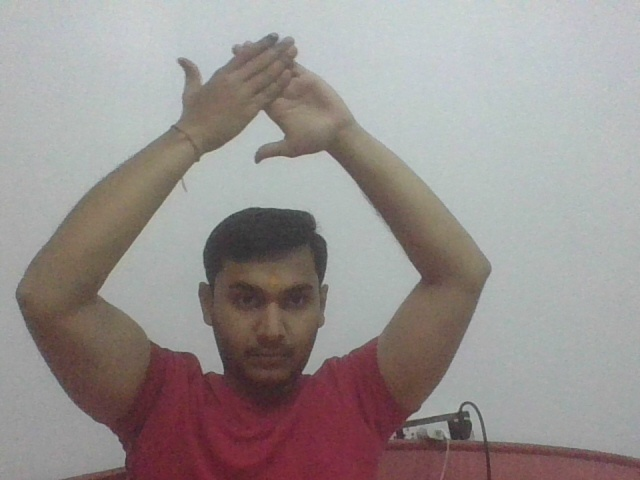H: (172, 31, 357, 167)
